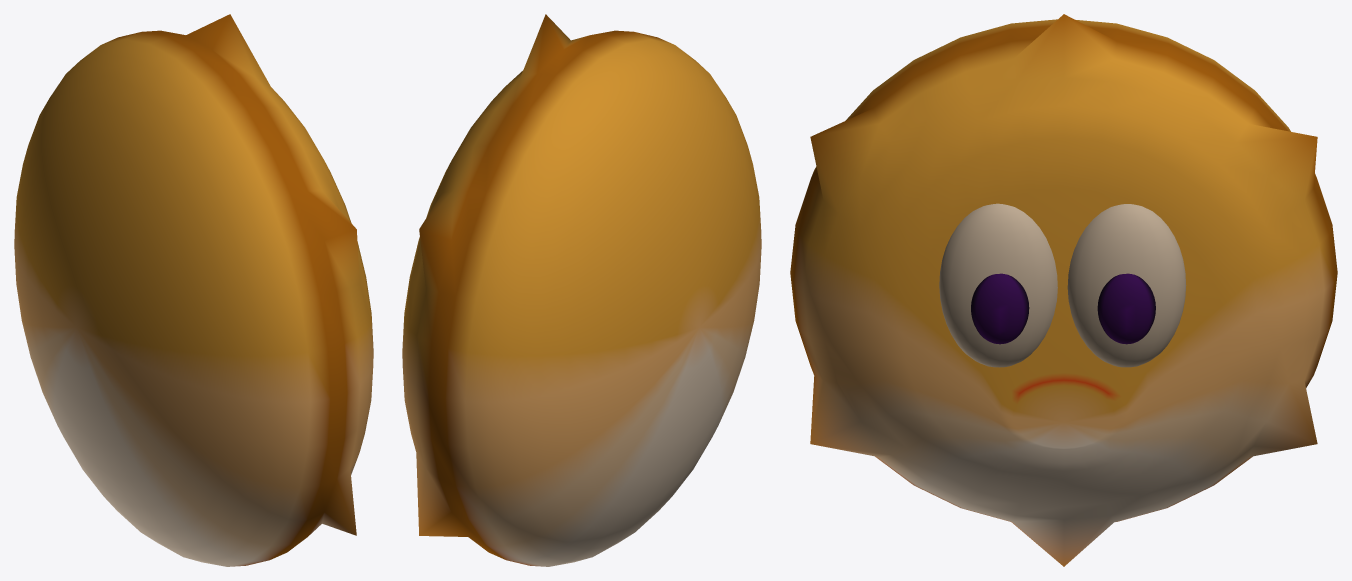
The model's file is Enemy Puffer.fbx.
3 renders of one model, left to right at view 1: azimuth 30°, elevation 25°; view 2: azimuth 150°, elevation 25°; view 3: azimuth 270°, elevation 25°, orthographic.
Parts seen in each view (by area): view 1: Puffer; view 2: Puffer; view 3: Puffer.
Boxes of the visible parts, x1,y1,x2,y2 form: Puffer: [14, 14, 373, 566]; Puffer: [402, 14, 761, 566]; Puffer: [790, 14, 1337, 566].
Bounding box in the file's own units: 1.06 × 2.23 × 2.
